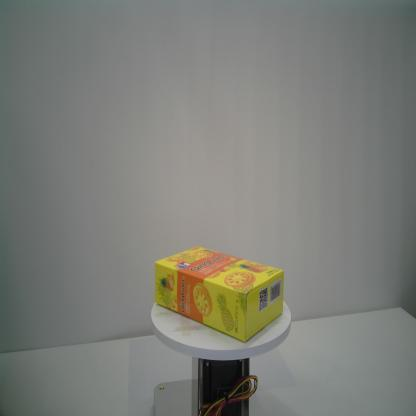Dessert: (155, 245, 284, 343)
